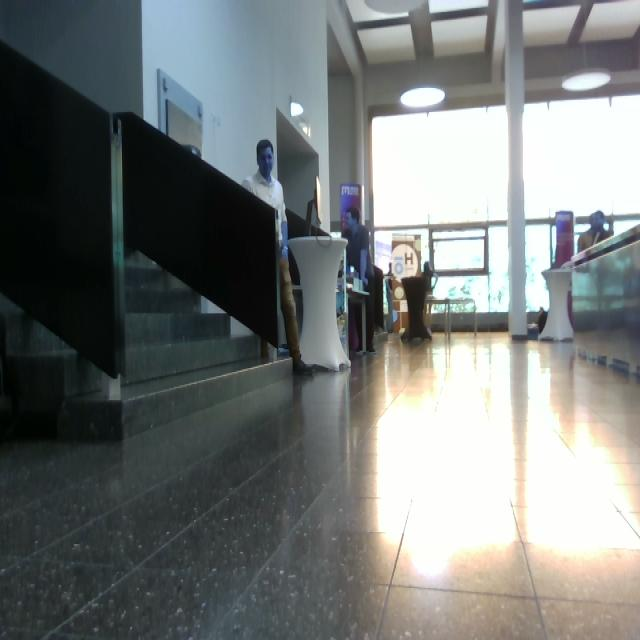door: (112, 110, 278, 385)
light bulb: (561, 44, 611, 92), (562, 69, 611, 92), (400, 86, 446, 109), (364, 1, 428, 16), (184, 144, 202, 158), (290, 101, 304, 117)
person: (242, 140, 315, 377), (343, 206, 378, 356)
pillar: (504, 1, 528, 338)
table: (286, 233, 355, 376)
tiled floor: (2, 327, 639, 639)
